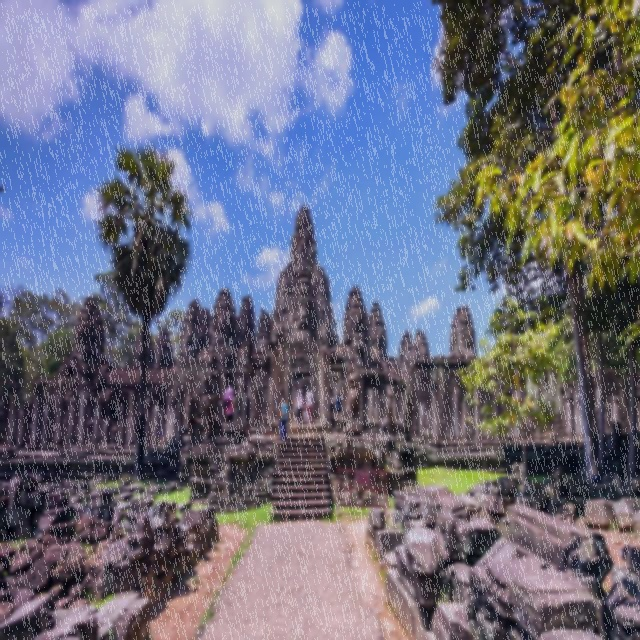pessoa: (335, 281, 479, 367), (156, 290, 269, 360), (278, 254, 329, 358), (278, 394, 288, 446), (304, 384, 314, 422), (295, 391, 304, 426), (335, 389, 343, 414), (227, 396, 233, 427), (294, 382, 304, 400), (330, 390, 336, 404)
